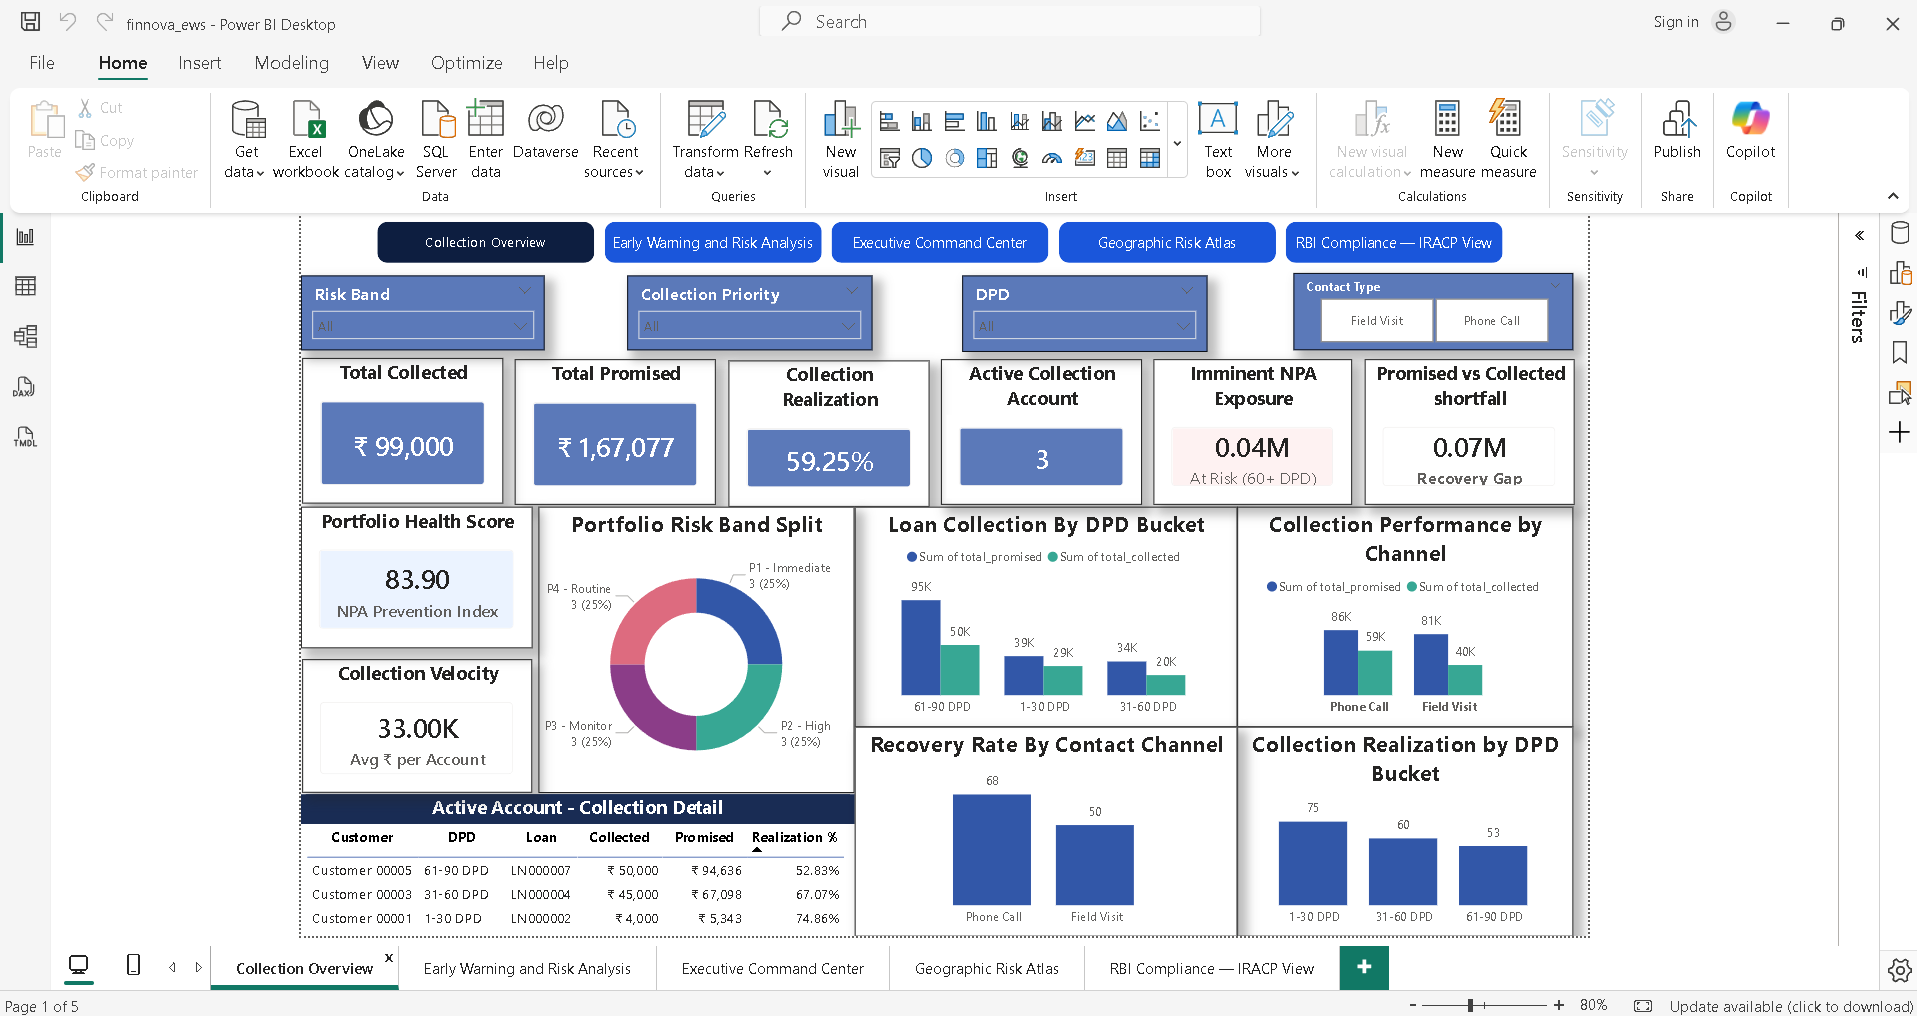

The page's visual inventory and layout, read from the dashboard file:
{"tool":"powerbi","page":{"name":"Collection Overview","canvas":[1280,720],"ordinal":0},"visuals":[{"type":"cardVisual","title":"Total Promised","fields":{"Data":["public vw_collection_performance.Total Promised"]},"box":[213,145,200.3,145],"z":0},{"type":"cardVisual","title":"Total Collected","fields":{"Data":["public vw_collection_performance.Total Collected"]},"box":[1,143.8,200.3,145],"z":1000},{"type":"cardVisual","title":"Collection Realization","fields":{"Data":["public vw_collection_performance.Collection Realization %"]},"box":[424.9,147.3,200.3,145.5],"z":2000},{"type":"clusteredColumnChart","title":"Loan Collection By DPD Bucket","fields":{"Category":["public vw_collection_dpd.dpd_bucket"],"Y":["Sum(public vw_collection_dpd.total_promised)","Sum(public vw_collection_dpd.total_collected)"]},"box":[551.1,292.3,380.7,218.9],"z":3000},{"type":"clusteredColumnChart","title":"Collection Performance by Channel","fields":{"Category":["public vw_collection_channel.contact_type"],"Y":["Sum(public vw_collection_channel.total_promised)","Sum(public vw_collection_channel.total_collected)"]},"box":[931.7,292.3,334.6,218.9],"z":4000},{"type":"cardVisual","title":"Active Collection Account","fields":{"Data":["public vw_collection_performance.Active Collection Accounts"]},"box":[636.9,145,200.3,145],"z":5000},{"type":"clusteredColumnChart","title":"Collection Realization by DPD Bucket","fields":{"Category":["public vw_collection_dpd.dpd_bucket"],"Y":["Sum(public vw_collection_dpd.realization_pct)"]},"box":[931.7,511.3,334.6,209],"z":6000},{"type":"donutChart","title":"Portfolio Risk Band Split","fields":{"Category":["public vw_ews_customer_loan.collection_priority"],"Y":["CountNonNull(public vw_collection_priority.loan_id)"]},"box":[236.4,292.3,314.7,284.9],"z":7000},{"type":"tableEx","title":"Active Account - Collection Detail","fields":{"Values":["public vw_collection_priority.customer_name","public vw_collection_priority.dpd_bucket","public vw_collection_priority.loan_id","Sum(public vw_collection_priority.total_collected)","Sum(public vw_collection_priority.total_promised)","public vw_collection_priority.Realization %"]},"box":[0,578.4,551.1,141.8],"z":8000},{"type":"slicer","title":"DPD","fields":{"Values":["public vw_collection_dpd.dpd_bucket"]},"box":[658.1,62.2,243.8,75.9],"z":9000},{"type":"slicer","fields":{"Values":["public vw_ews_customer_loan.collection_priority"]},"box":[324.7,62.2,243.8,74.6],"z":10000},{"type":"slicer","fields":{"Values":["public vw_ews_customer_loan.risk_band"]},"box":[0,62.2,242.6,74.6],"z":11000},{"type":"slicer","fields":{"Values":["public vw_collection_channel.contact_type"]},"box":[987.7,59.7,278.6,77.1],"z":12000},{"type":"cardVisual","title":"Imminent NPA Exposure","fields":{"Data":["public vw_collection_priority.At Risk Amount"]},"box":[848.9,145,197.8,145],"z":13000},{"type":"cardVisual","title":"Promised vs Collected shortfall","fields":{"Data":["public vw_collection_priority.Recovery Gap"]},"box":[1058.4,145,209,145],"z":14000},{"type":"cardVisual","title":"Collection Velocity","fields":{"Data":["public vw_collection_performance.Collection Velocity"]},"box":[1.2,444.1,228.9,133.1],"z":15000},{"type":"cardVisual","title":"Portfolio Health Score","fields":{"Data":["public vw_collection_performance.NPA Prevention Index"]},"box":[0,292.3,230.1,140.6],"z":16000},{"type":"clusteredColumnChart","title":"Recovery Rate By Contact Channel","fields":{"Category":["public vw_collection_channel.contact_type"],"Y":["public vw_collection_channel.Channel Efficiency %"]},"box":[551.1,511.3,380.7,209],"z":17000},{"type":"pageNavigator","box":[75.9,8.7,1122.1,41.1],"z":18000}]}

Visuals, with their boxes on the page's 1280x720 design canvas (x1, y1, x2, y2). These are canvas units, not pixel positions in the 1917x1016 screenshot, which may show the page scaled, cropped or inside an application window:
"Total Promised" cardVisual: bbox=[213, 145, 413, 290]
"Total Collected" cardVisual: bbox=[1, 144, 201, 289]
"Collection Realization" cardVisual: bbox=[425, 147, 625, 293]
"Loan Collection By DPD Bucket" clusteredColumnChart: bbox=[551, 292, 932, 511]
"Collection Performance by Channel" clusteredColumnChart: bbox=[932, 292, 1266, 511]
"Active Collection Account" cardVisual: bbox=[637, 145, 837, 290]
"Collection Realization by DPD Bucket" clusteredColumnChart: bbox=[932, 511, 1266, 720]
"Portfolio Risk Band Split" donutChart: bbox=[236, 292, 551, 577]
"Active Account - Collection Detail" tableEx: bbox=[0, 578, 551, 720]
"DPD" slicer: bbox=[658, 62, 902, 138]
slicer - public vw_ews_customer_loan.collection_priority: bbox=[325, 62, 568, 137]
slicer - public vw_ews_customer_loan.risk_band: bbox=[0, 62, 243, 137]
slicer - public vw_collection_channel.contact_type: bbox=[988, 60, 1266, 137]
"Imminent NPA Exposure" cardVisual: bbox=[849, 145, 1047, 290]
"Promised vs Collected shortfall" cardVisual: bbox=[1058, 145, 1267, 290]
"Collection Velocity" cardVisual: bbox=[1, 444, 230, 577]
"Portfolio Health Score" cardVisual: bbox=[0, 292, 230, 433]
"Recovery Rate By Contact Channel" clusteredColumnChart: bbox=[551, 511, 932, 720]
pageNavigator: bbox=[76, 9, 1198, 50]
